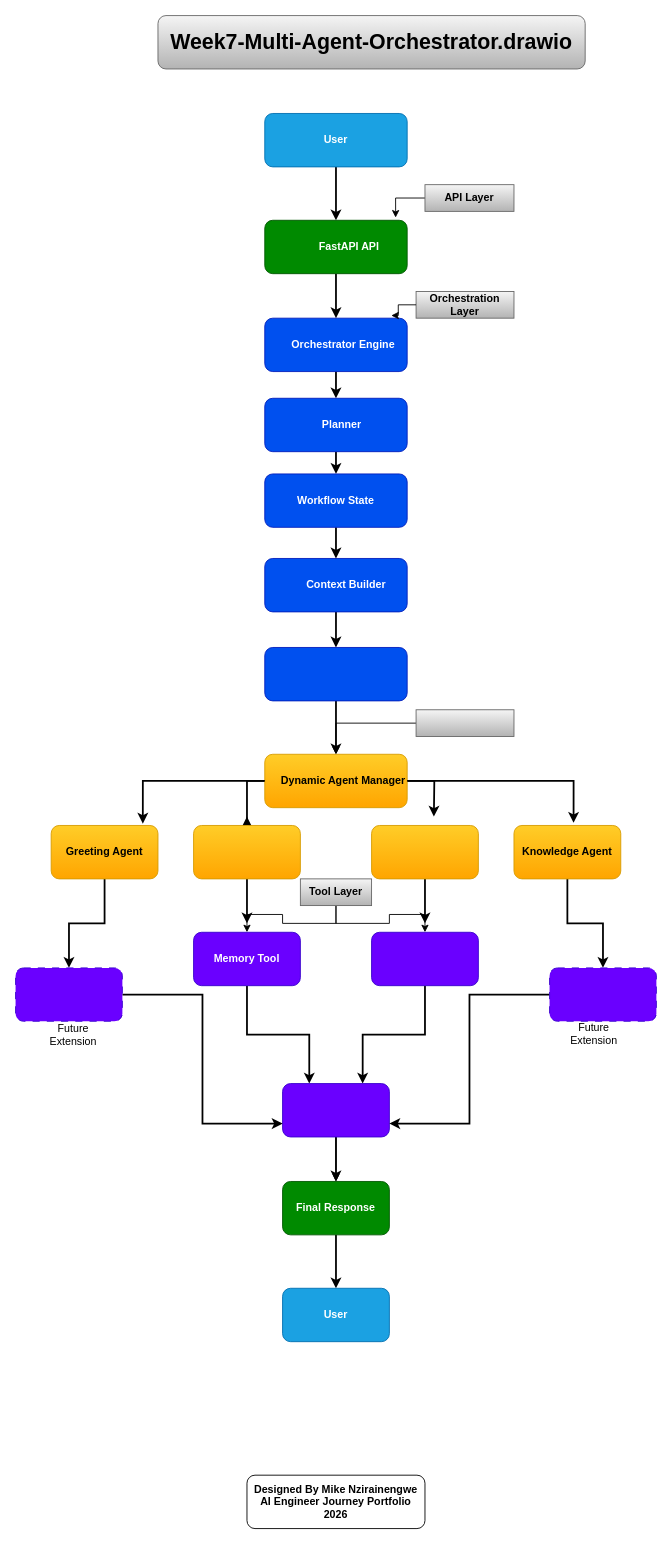
Some shapes in this 672 by 1544 pixel diagram are drawn without their labels. Here are the shapes that lost their labels. From the top down, the centre of each, then its label:
(x=335, y=674): Router
(x=464, y=722): Agent Layer
(x=246, y=852): Memory Agent
(x=424, y=852): Calculator Agent
(x=424, y=958): Calculator Tool
(x=68, y=994): Greeting Tool
(x=602, y=994): Knowledge Tool
(x=335, y=1110): Tool Registry
